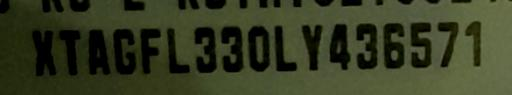letter: (405, 18, 437, 71), (434, 18, 466, 71), (217, 23, 249, 74), (82, 25, 114, 76), (462, 18, 492, 71), (296, 19, 326, 72), (379, 20, 409, 71), (324, 20, 354, 71), (352, 21, 382, 72), (272, 22, 302, 73), (244, 23, 274, 74), (190, 24, 220, 75), (54, 26, 84, 77), (30, 28, 58, 77), (136, 25, 162, 76), (164, 25, 190, 76), (110, 26, 136, 75)
